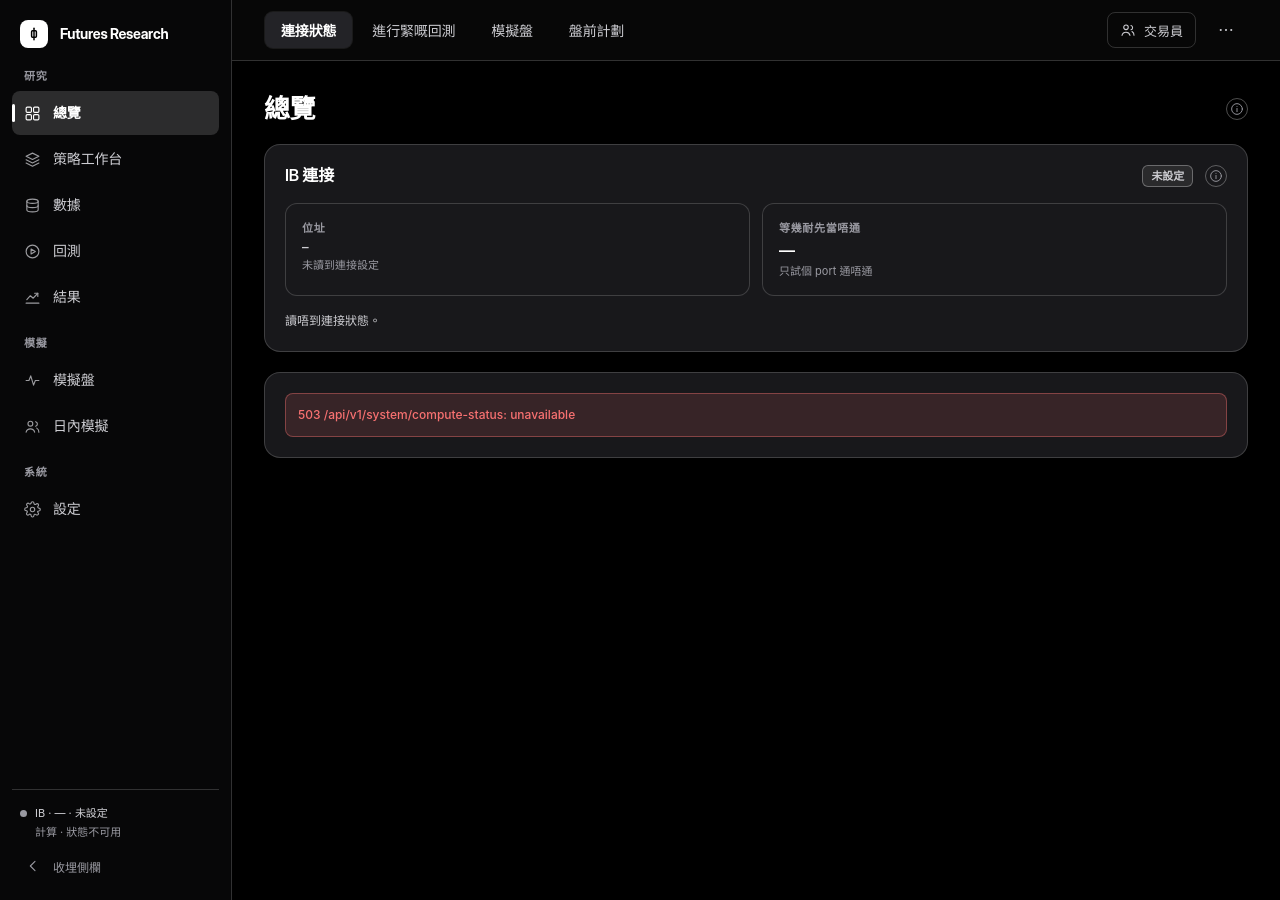
App shell (WO-006 / 6-1 → WO-010 batch 1) › routes from the sidebar into the real P6 模擬盤 page, not a stub
expect the text "IB · — · 未設定" is shown: met, box [35,806,108,820]
Click the link "模擬盤" at (59, 380), box [24,371,94,389]
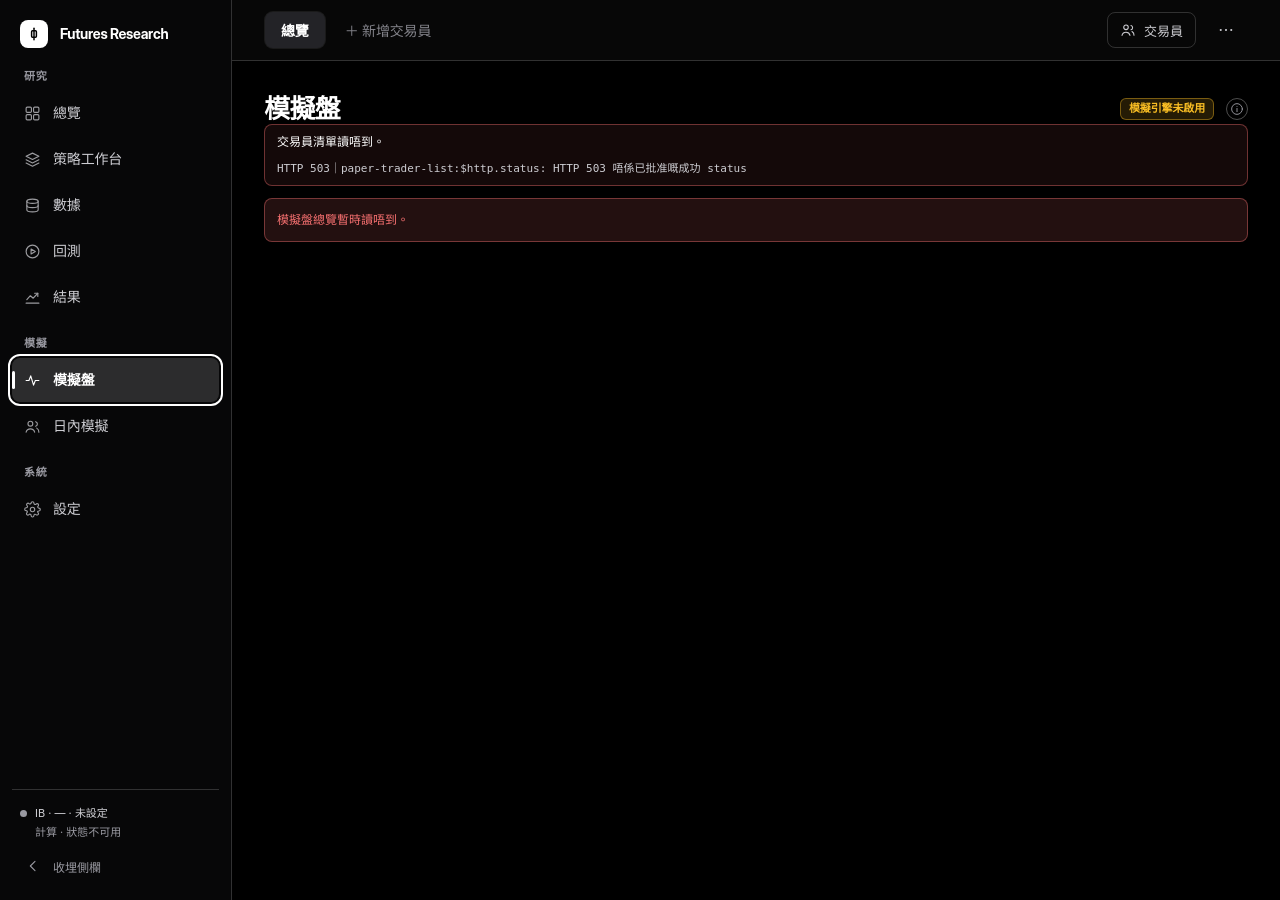
expect the heading "模擬盤" is shown: met, box [264,93,340,124]
expect the tab "＋ 新增交易員" is shown: met, box [329,12,447,48]
